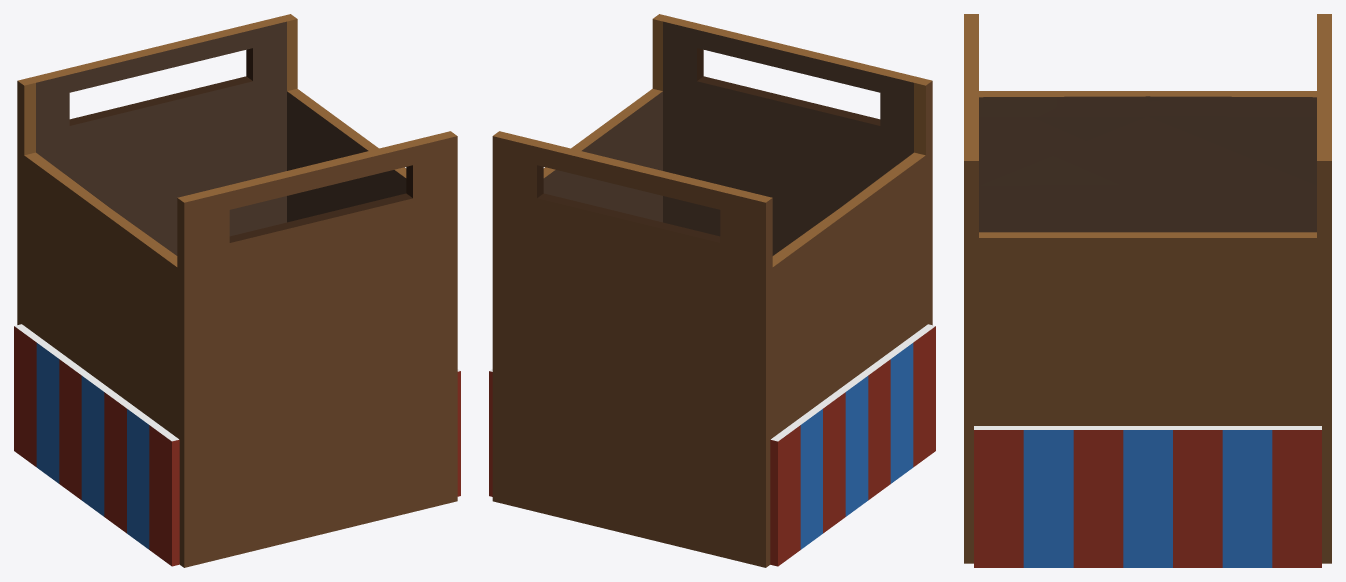
The model's file is Package4.fbx.
3 views of the same model, side by side, from view 1: azimuth 30°, elevation 25°; view 2: azimuth 150°, elevation 25°; view 3: azimuth 270°, elevation 25° (orthographic). The views are drawn at different scales.
Parts seen in each view (by area): view 1: takeout_boxcpi, 01_box; view 2: takeout_boxcpi, 01_box; view 3: takeout_boxcpi, 01_box.
Boxes of the visible parts, x1,y1,x2,y2 form: takeout_boxcpi: (17, 14, 457, 567); 01_box: (14, 324, 460, 566); takeout_boxcpi: (492, 14, 932, 567); 01_box: (489, 324, 935, 566); takeout_boxcpi: (964, 14, 1331, 563); 01_box: (974, 426, 1321, 567).
Size of the model in its own units: 101 by 122 by 101.
2 materials, 2 textured.
